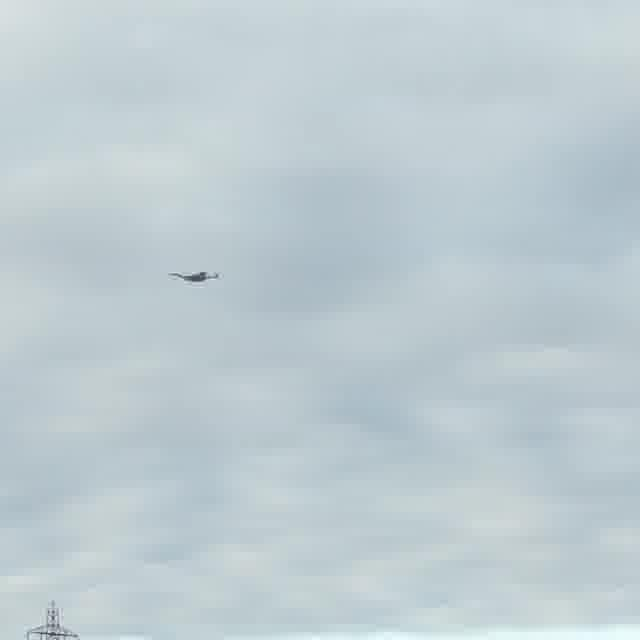Drohne: (169, 271, 220, 282)
